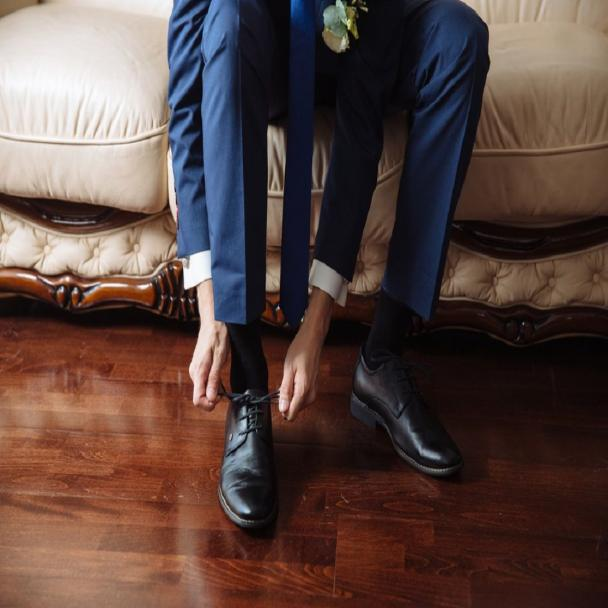Sepatu: (349, 345, 462, 478), (218, 379, 279, 527)
